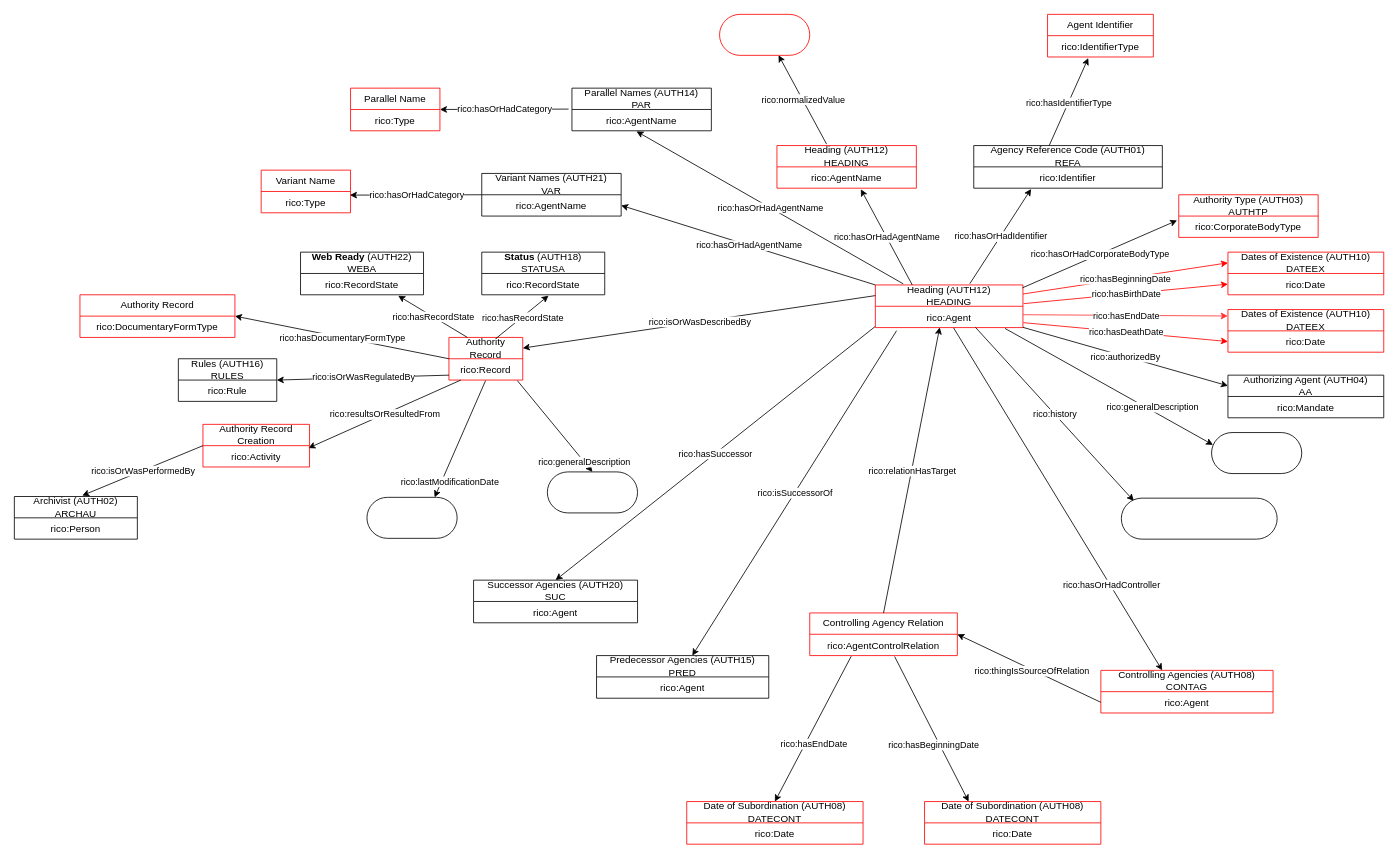
This 1398x861 diagram has some shape labels left out. The shapes that lost their labels are listed below. From the top down, each one's centre as x and y in pixels, then its label:
At pixel 764 34: "Natural Name (AUTH13) NAME".
At pixel 1256 453: "Function Note (AUTH11) FUN".
At pixel 592 492: "Source Note (AUTH17) SOURCE".
At pixel 411 517: "Date (AUTH09) MOD_DATE".
At pixel 1199 518: "Biographical Sketch or Administrative History (AUTH05) ADM".
